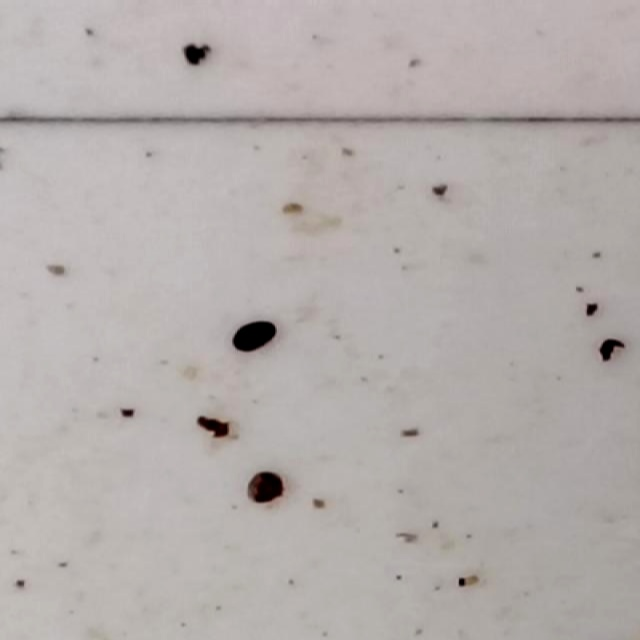varroa: (227, 319, 277, 355), (242, 471, 285, 507)
